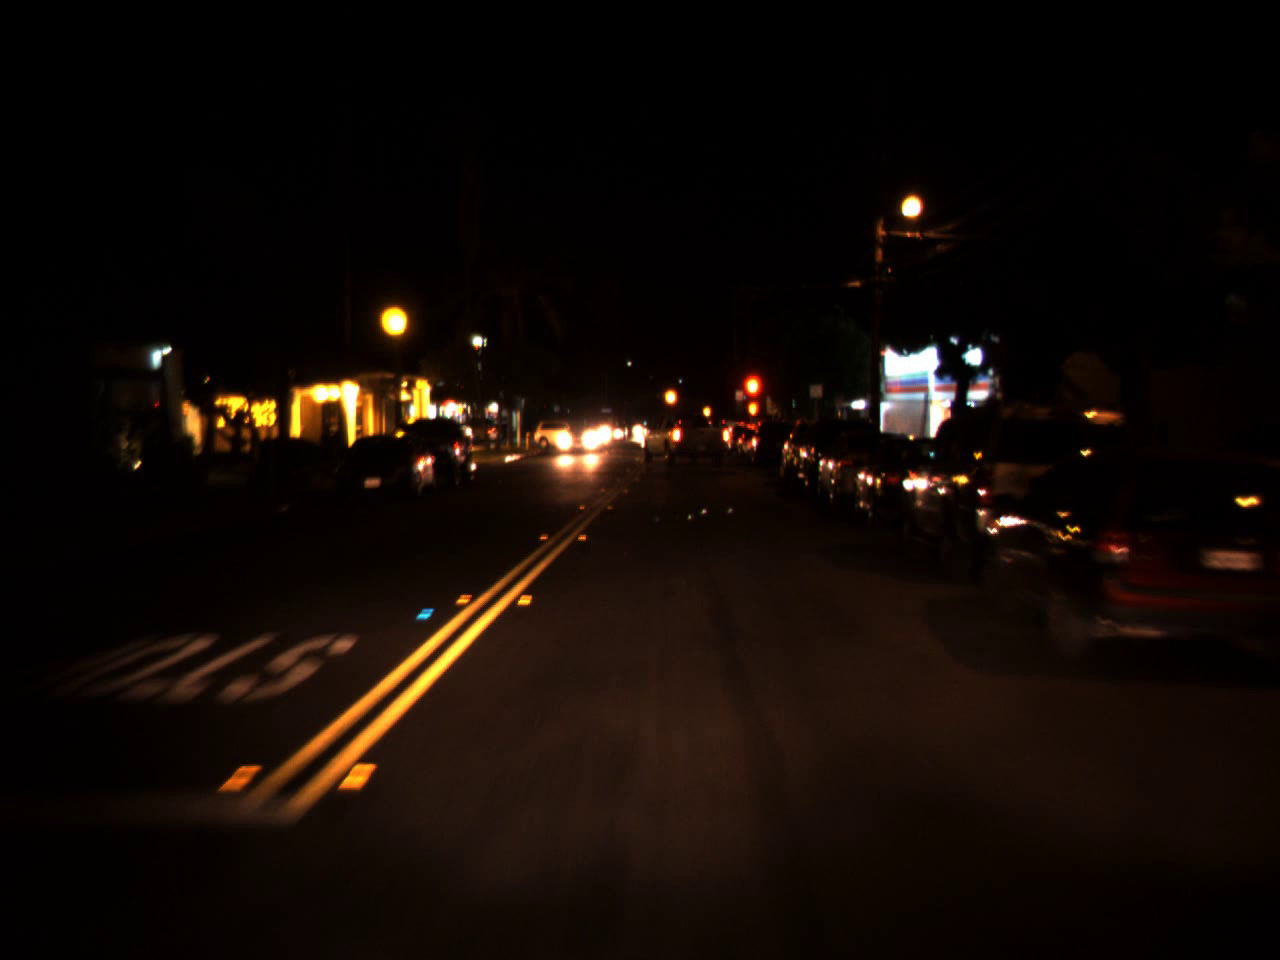stop: (739, 371, 766, 425)
warning: (662, 378, 680, 413), (702, 403, 711, 420)
